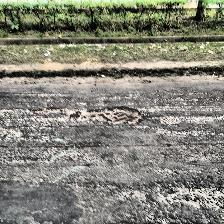pothole: (75, 106, 143, 127)
